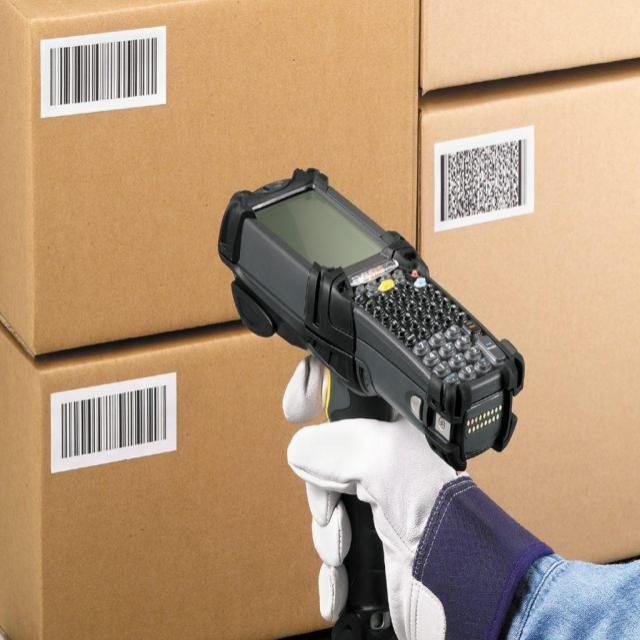box: (0, 0, 431, 363), (0, 308, 349, 640), (419, 59, 640, 575)
